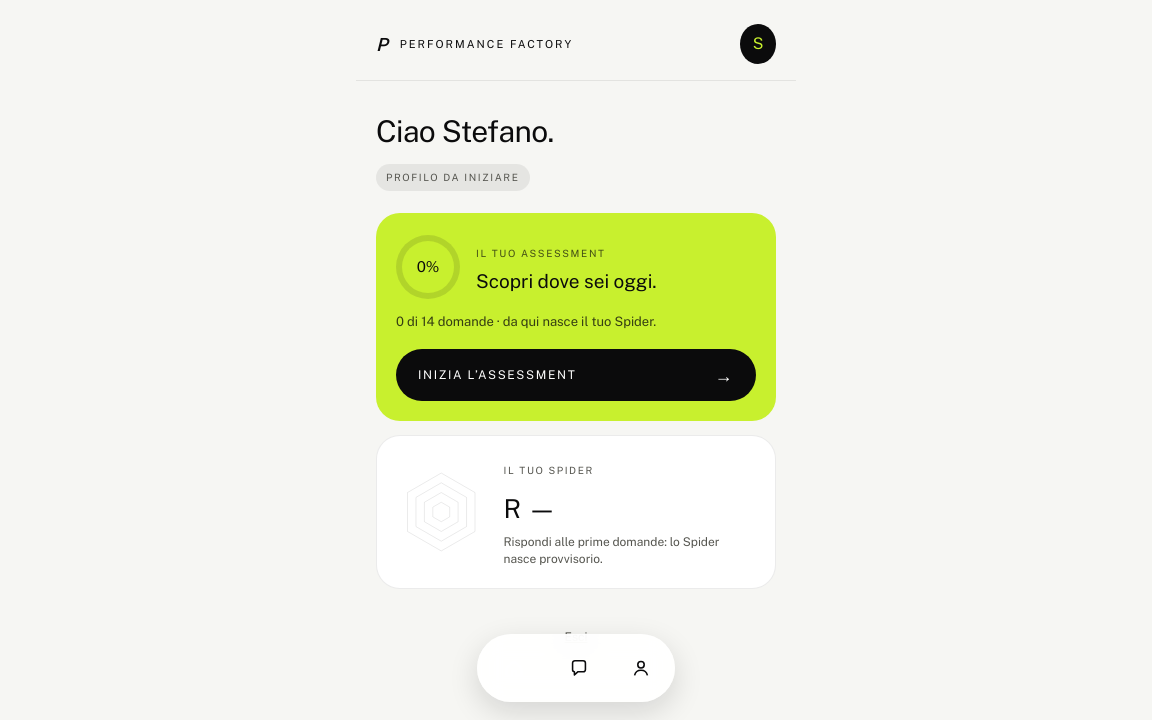
Scenario: PF5 assessment intro and questions › starts from the intro and shows the operational section first
Step 1. Click the button "Inizia l’assessment →" → (576, 375), box [396, 349, 756, 401]
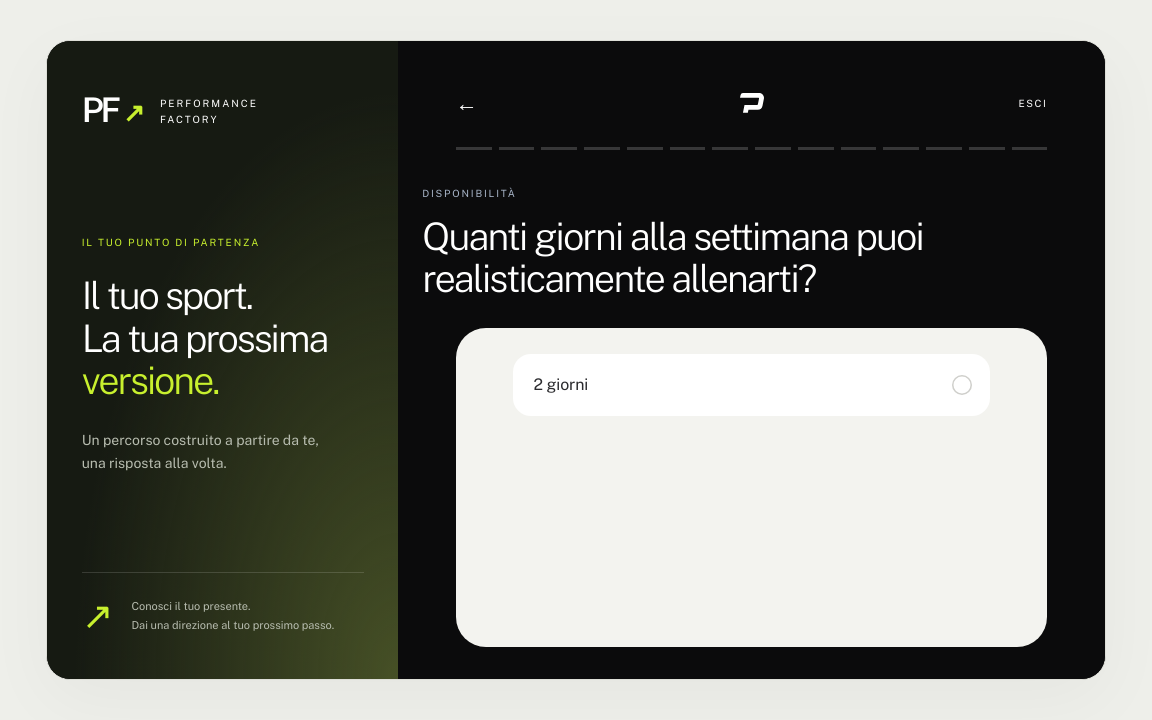
Expected: the text "Disponibilità" is shown, [422, 187, 517, 199]
